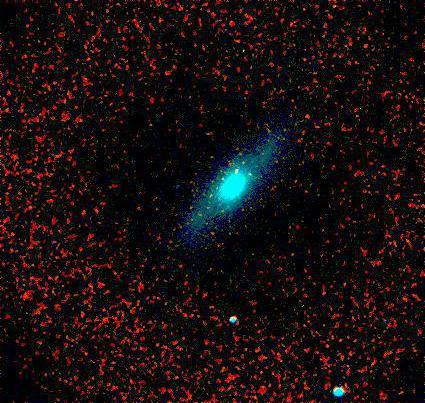star: (237, 161, 267, 191)
